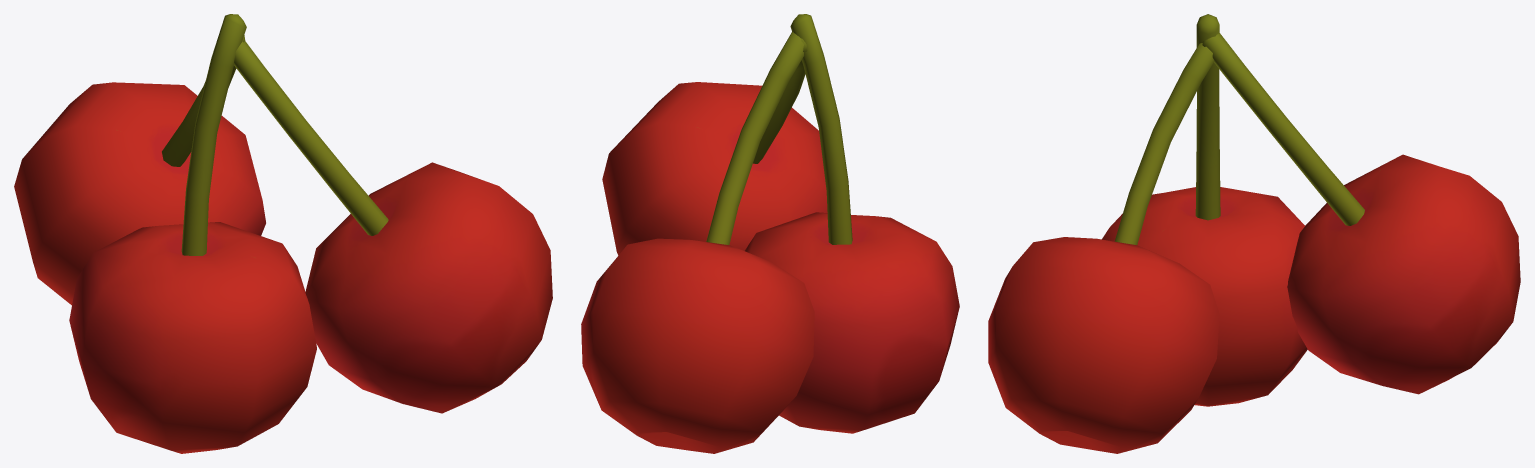
File: Cheery.fbx
The picture shows the model from 3 angles, left to right: view 1: azimuth 30°, elevation 25°; view 2: azimuth 150°, elevation 25°; view 3: azimuth 270°, elevation 25°; orthographic projection. The views are drawn at different scales.
Parts seen in each view (by area): view 1: CHEERY.002; view 2: CHEERY.002; view 3: CHEERY.002.
Part boxes in pixels (x1,y1,x2,y2): CHEERY.002: (14,14,552,453); CHEERY.002: (581,14,959,453); CHEERY.002: (988,14,1520,453).
Bounding box in the file's own units: 174 × 172 × 212.
1 material, 1 textured.
